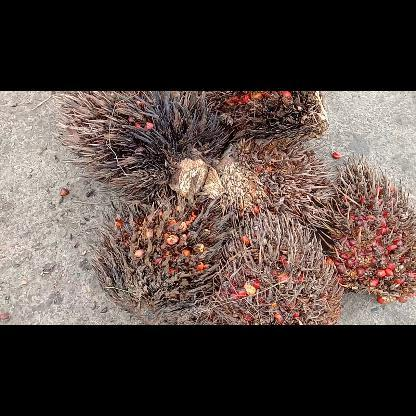Terlalu masak: (50, 90, 226, 202), (90, 196, 234, 324), (213, 212, 343, 324), (318, 155, 414, 303), (218, 137, 334, 229), (198, 90, 328, 142)
